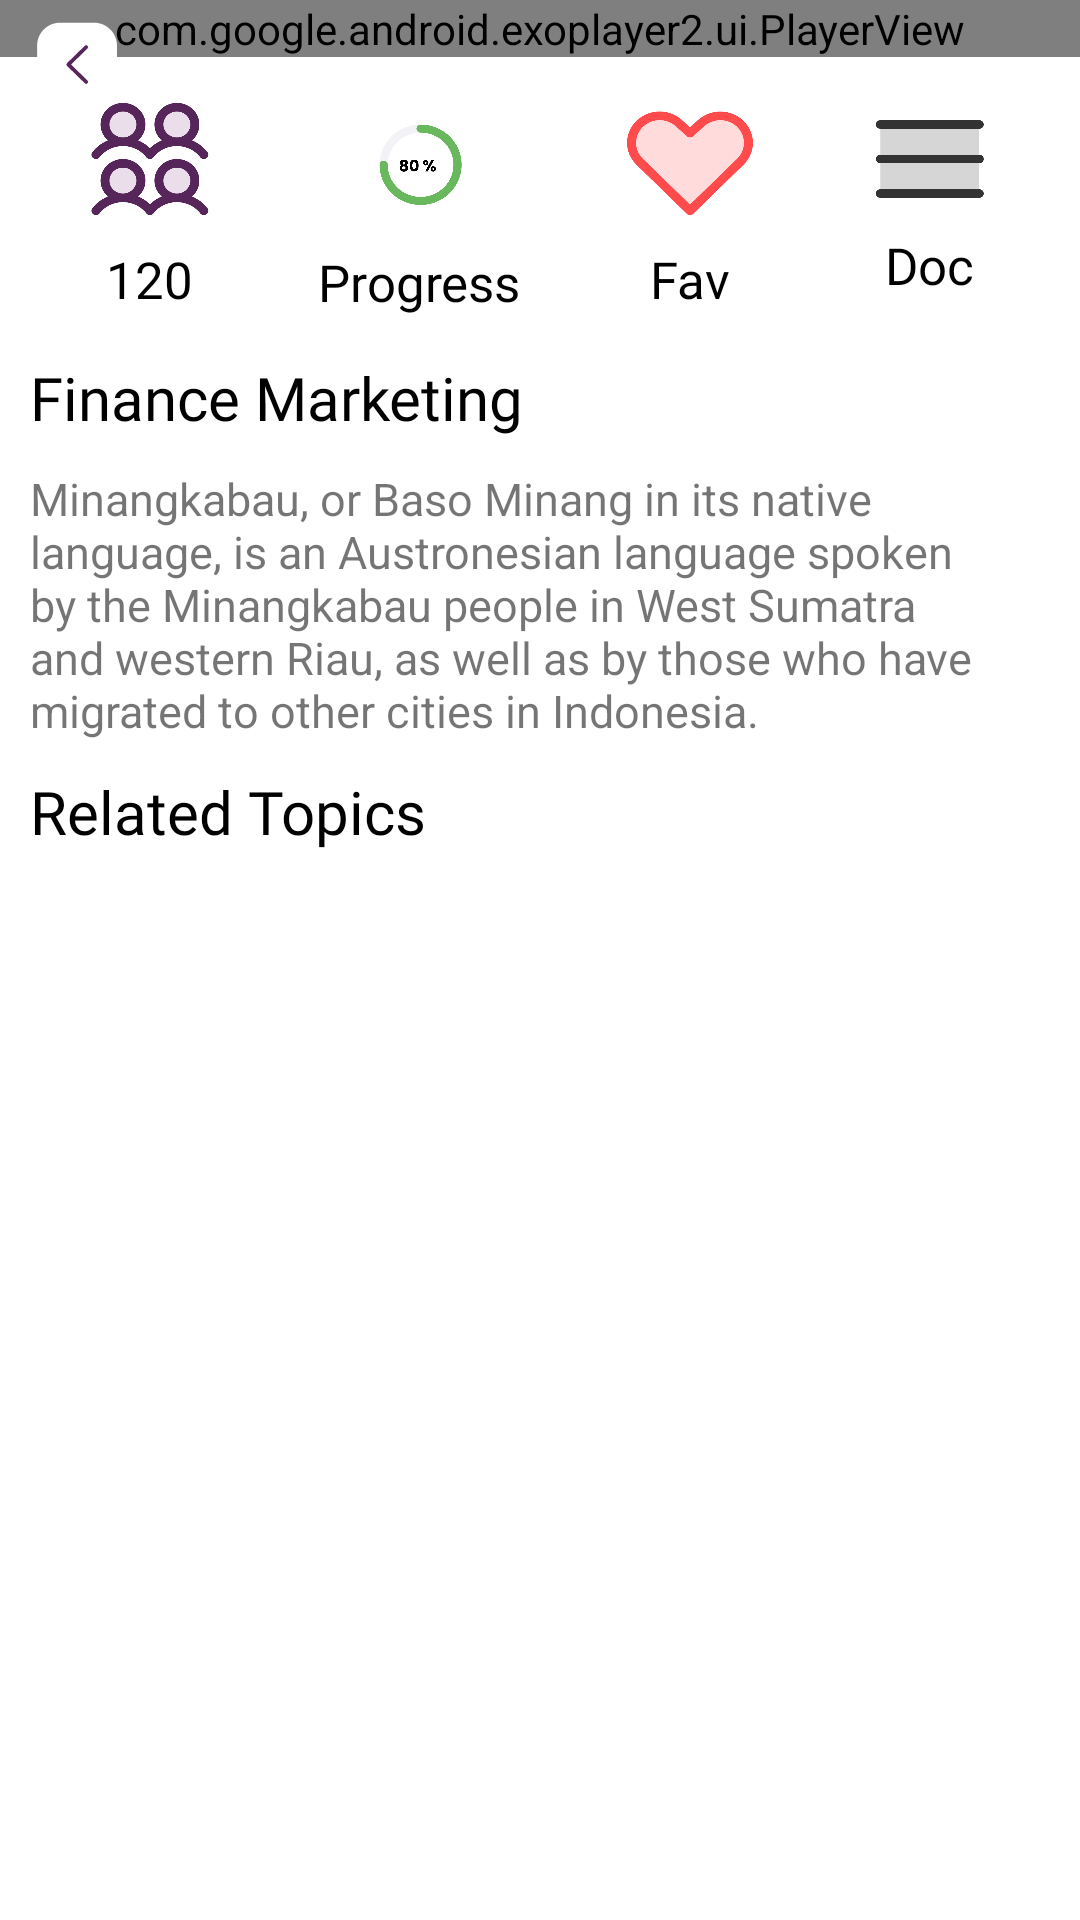

Icon click points for this 1080px x 1920px phone screenshot, format [x,y]:
heart: [690,163]
list: [930,159]
people: [150,159]
